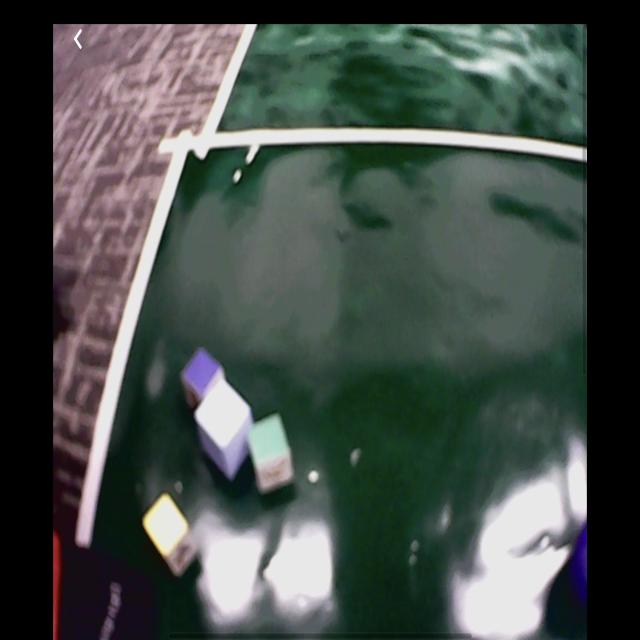ball: (573, 522, 588, 609)
